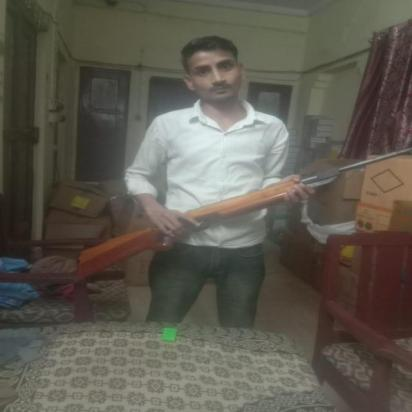Gun: (74, 148, 412, 284)
